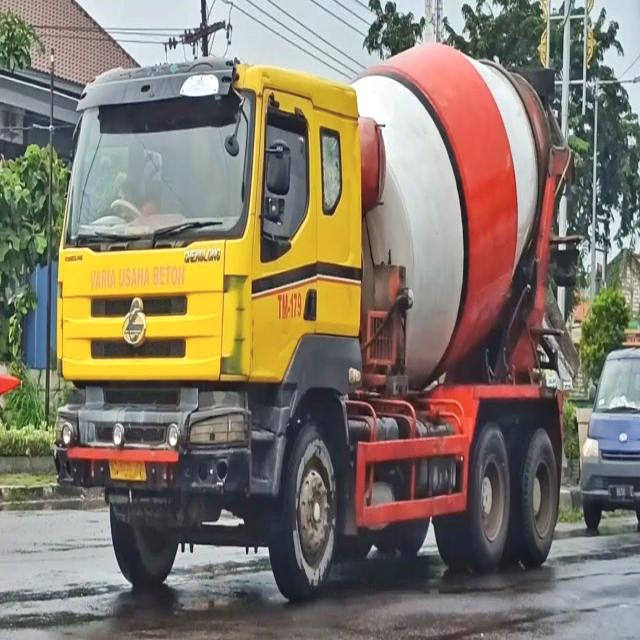truck: (52, 37, 572, 607)
